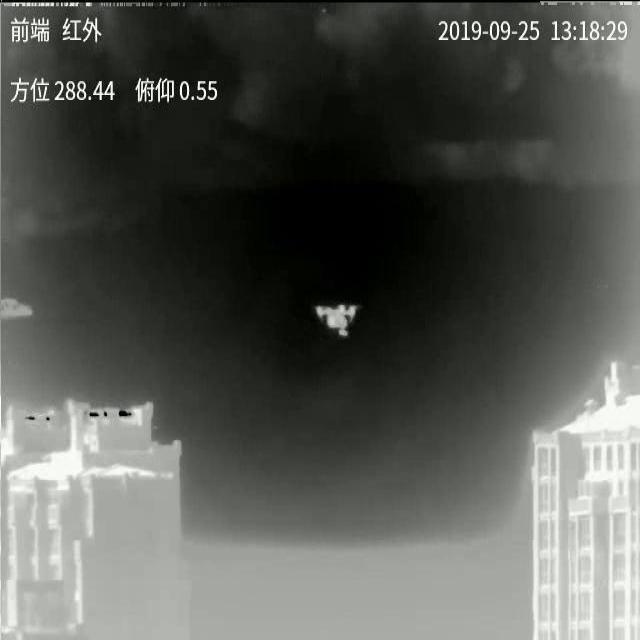drone: (315, 304, 359, 337)
